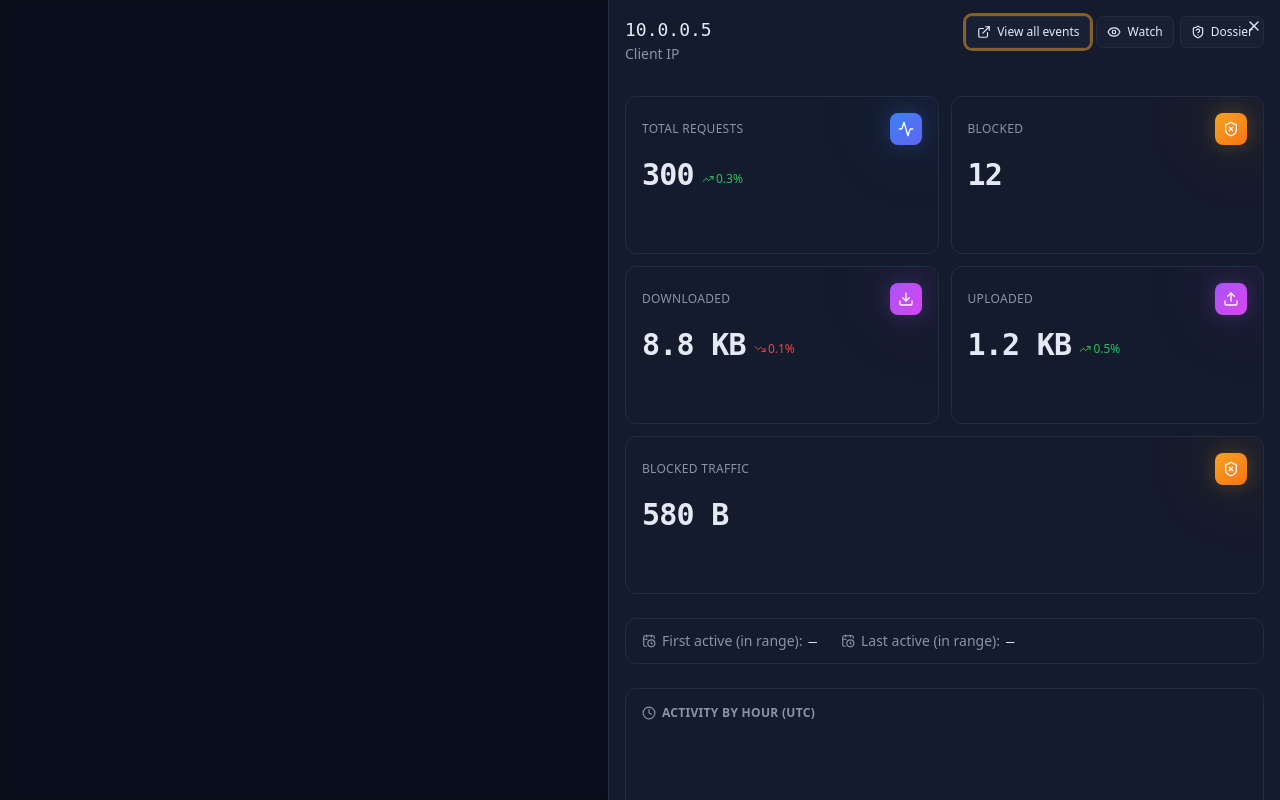
Test case: ActorDetailSheet watchlist toggle › lets an admin add the actor to the watchlist from the sheet
This screenshot has width=1280, height=800.
Step 1. Click the button "Watch" → (1135, 32), box [1096, 16, 1174, 48]
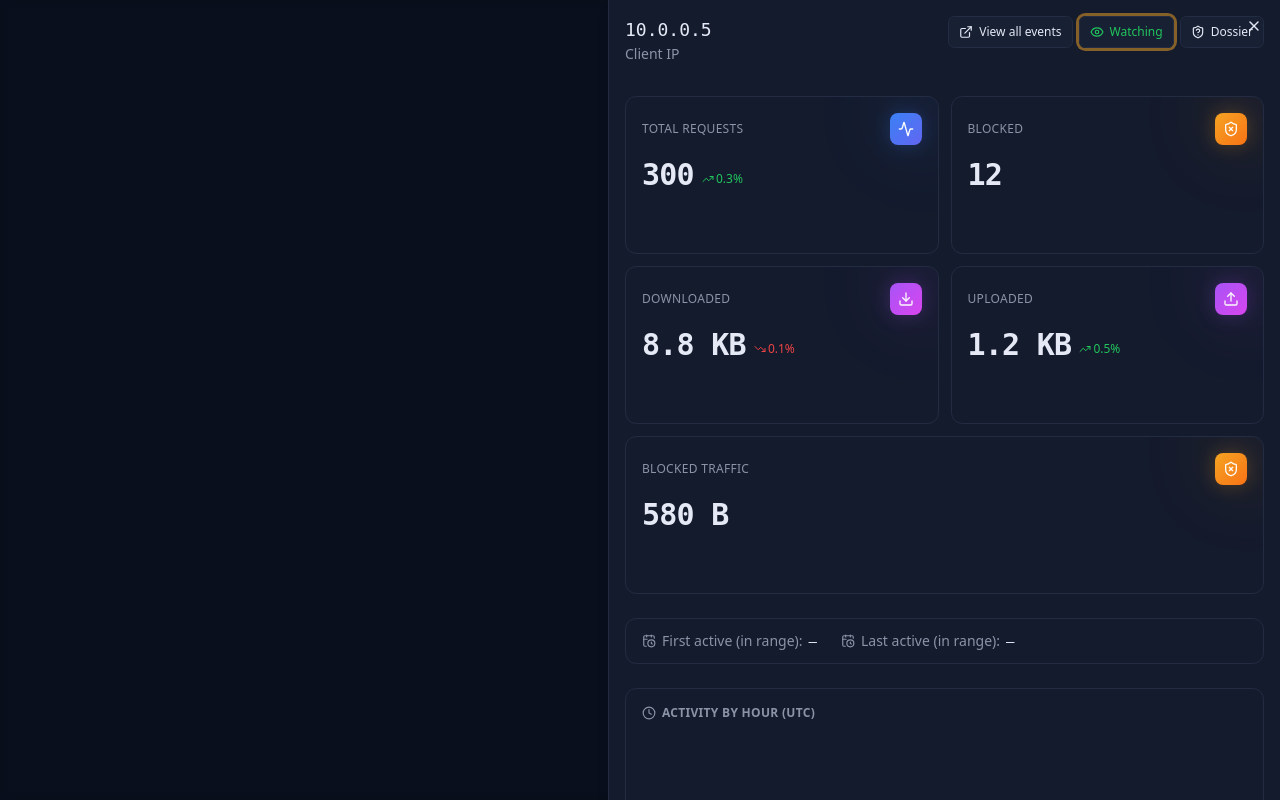
Check: the button "Watching" is shown, box [1079, 16, 1174, 48]
